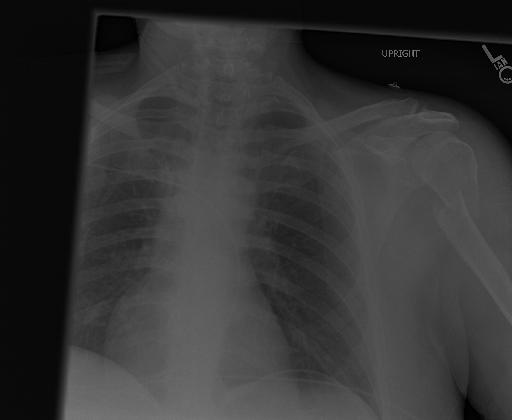shoulder fracture: (422, 173, 480, 230), (386, 91, 442, 136)
